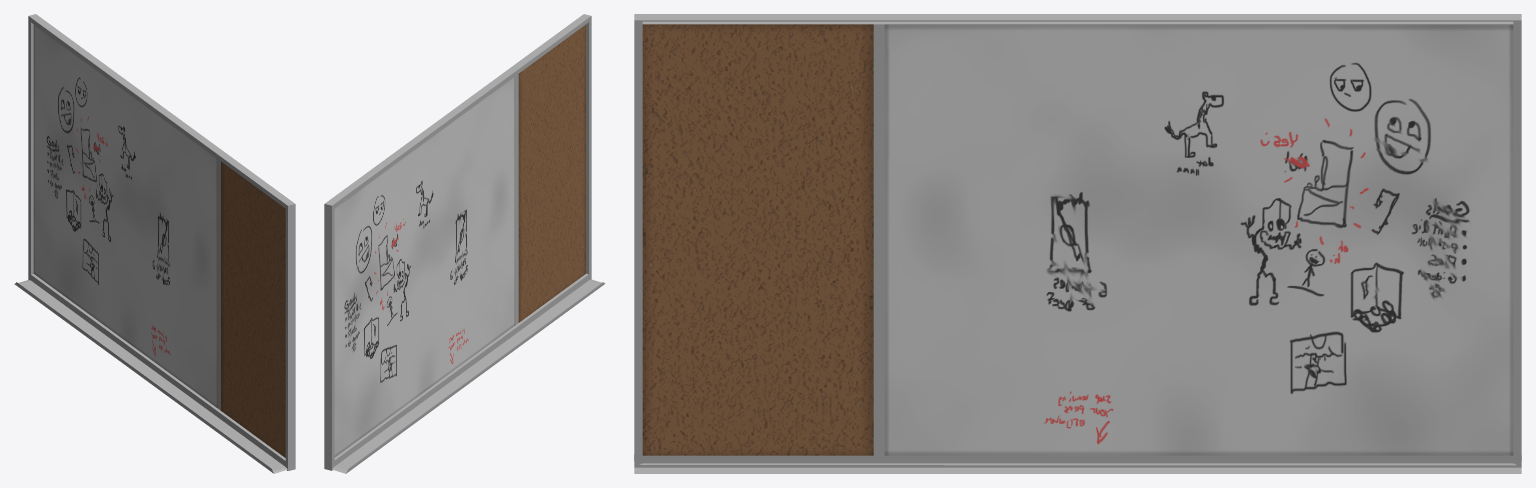
File: modifiedBoard.fbx
3 views of the same model, side by side, from view 1: azimuth 30°, elevation 25°; view 2: azimuth 150°, elevation 25°; view 3: azimuth 270°, elevation 25° (orthographic). The views are drawn at different scales.
Visible parts, largest first — view 1: Scrum_Board1; view 2: Scrum_Board1; view 3: Scrum_Board1.
Part boxes in pixels (x1,y1,x2,y2): Scrum_Board1: (14, 14, 295, 473); Scrum_Board1: (324, 14, 605, 473); Scrum_Board1: (634, 14, 1521, 473).
Bounding box in the file's own units: 1.48 × 17.18 × 30.48.
